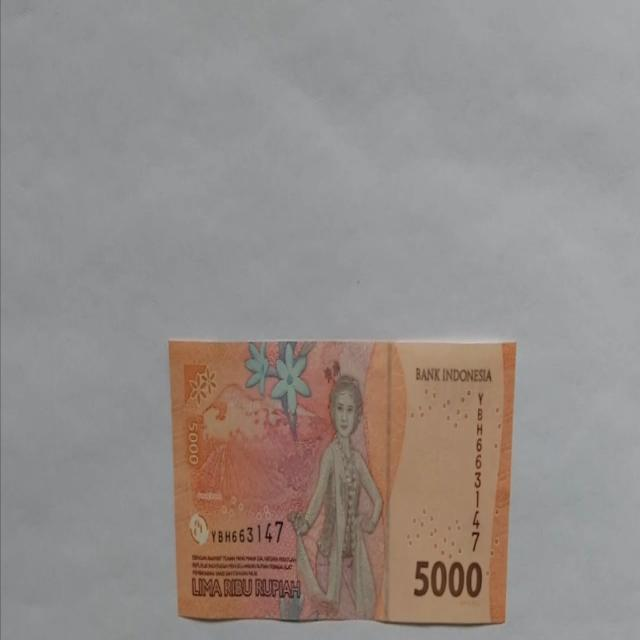lima ribu rupiah: (168, 337, 516, 625), (286, 372, 384, 620)
